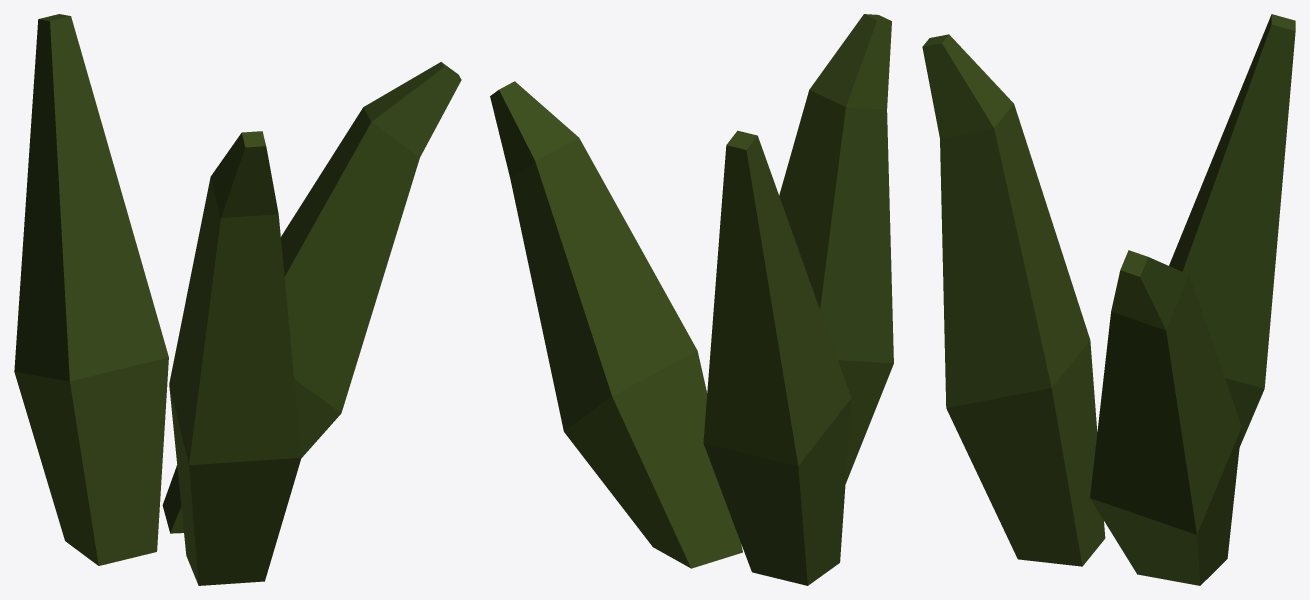
Rendered from GrassBars.fbx.
The picture shows the model from 3 angles, left to right: view 1: azimuth 30°, elevation 25°; view 2: azimuth 150°, elevation 25°; view 3: azimuth 270°, elevation 25°; orthographic projection. The views are drawn at different scales.
Parts seen in each view (by area): view 1: CrassBars; view 2: CrassBars; view 3: CrassBars.
Part boxes in pixels (box(x1,y1,x2,y2)): CrassBars: box(14, 14, 461, 585); CrassBars: box(490, 14, 893, 585); CrassBars: box(922, 14, 1295, 585).
Bounding box in the file's own units: 48.21 × 59.05 × 39.92.
